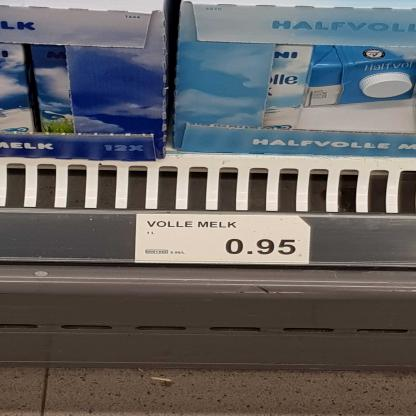prtg: (134, 215, 316, 266)
